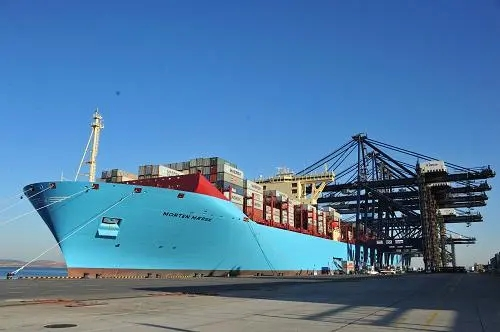Cargoship: (17, 111, 369, 274)
